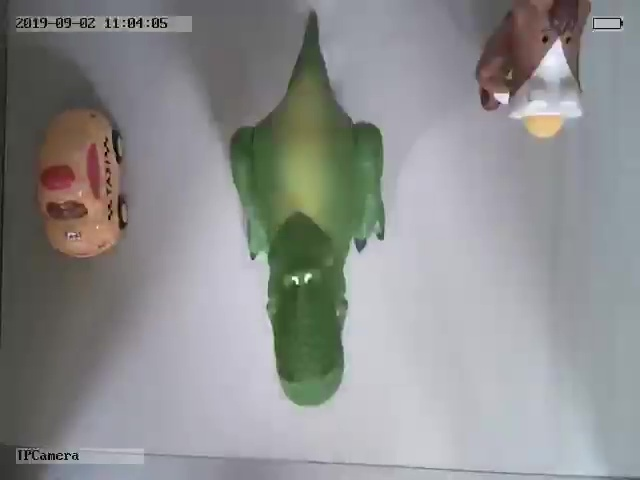car: (35, 105, 132, 260)
rex: (229, 10, 388, 408)
